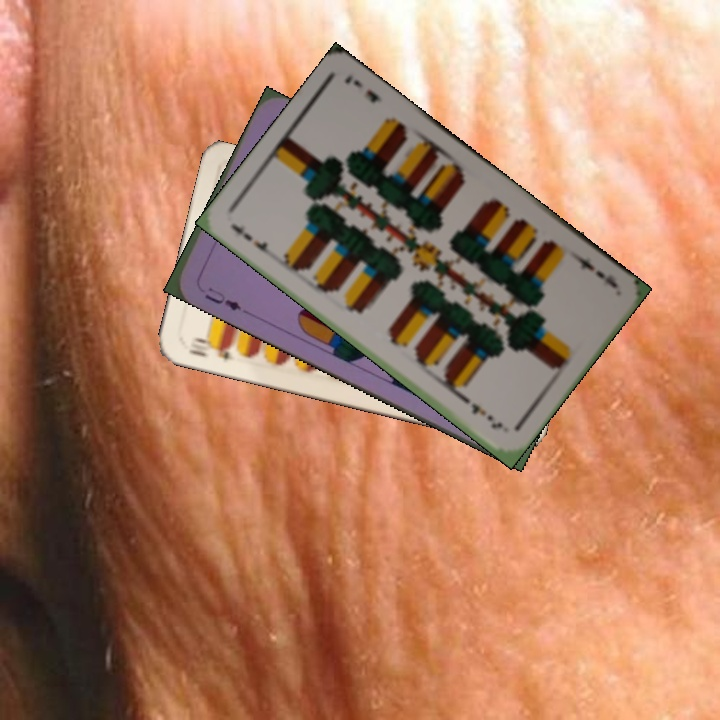E10: (184, 333, 236, 362)
E7: (225, 219, 278, 261), (569, 249, 620, 291)
EU: (201, 283, 245, 313)
